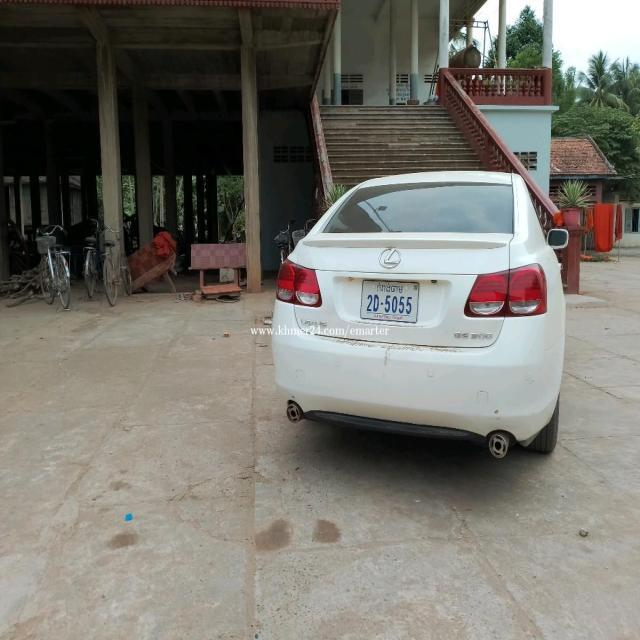Kampong_Cham: (377, 283, 404, 294)
